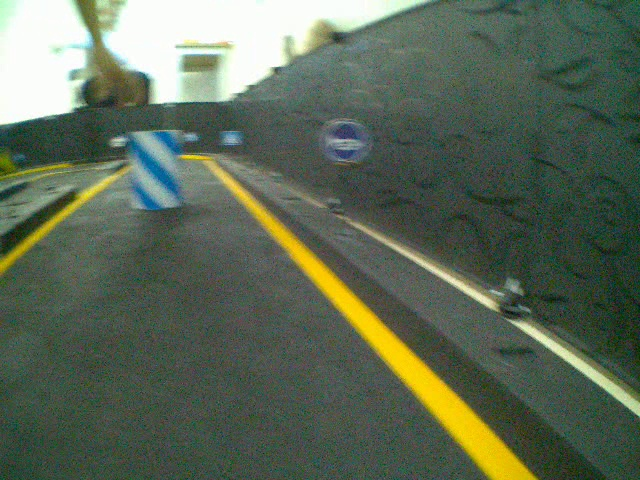bucket: (128, 130, 185, 212)
